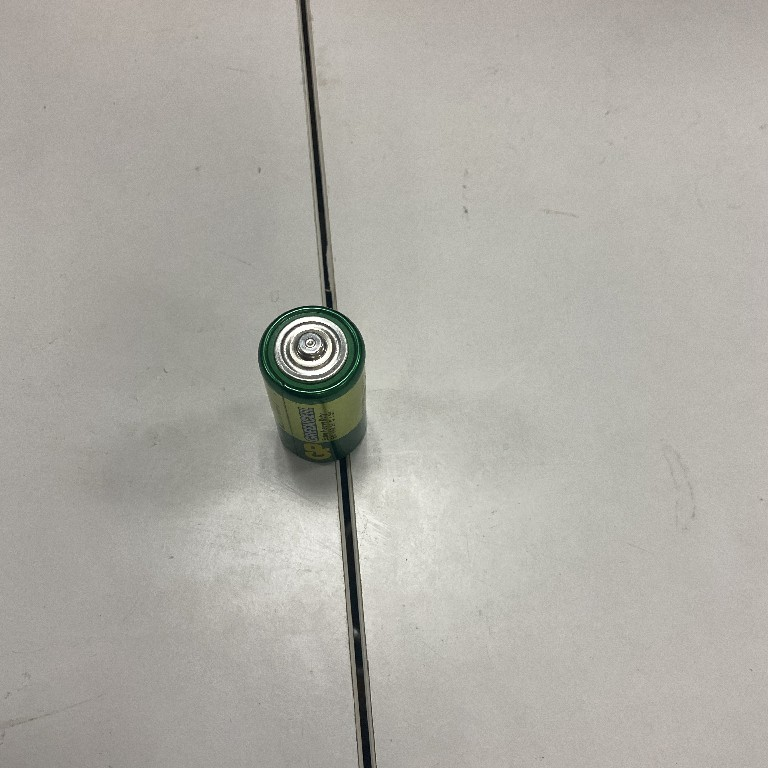charge: (255, 302, 376, 465)
